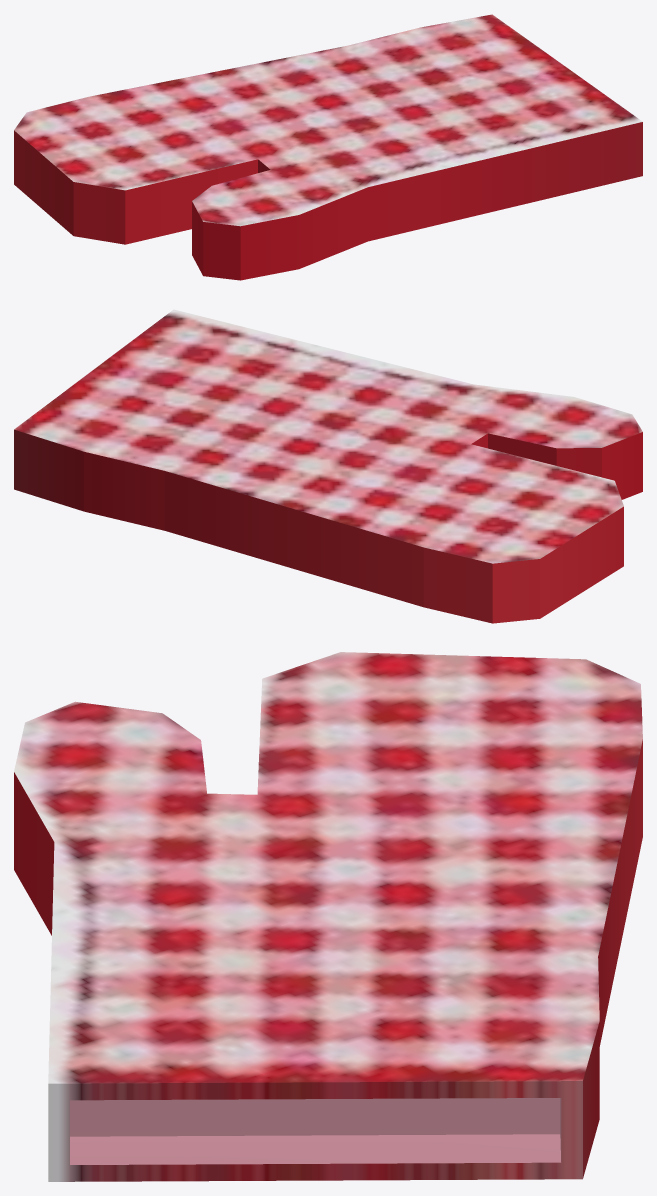
Rendered from cook handle.glb.
3 renders of one model, top to bottom at view 1: azimuth 30°, elevation 25°; view 2: azimuth 150°, elevation 25°; view 3: azimuth 270°, elevation 25°, orthographic. The views are drawn at different scales.
Parts seen in each view (by area): view 1: Plane; view 2: Plane; view 3: Plane.
Boxes of the visible parts, box(x1,y1,x2,y2) form: Plane: box(14, 14, 642, 280); Plane: box(14, 309, 642, 623); Plane: box(14, 652, 642, 1181).
Size of the model in its own units: 1.84 by 0.1955 by 1.13.
1 material, 1 textured.
